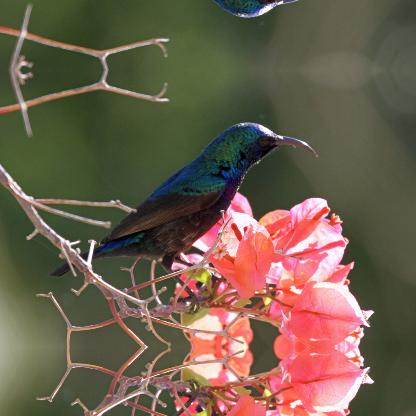Bird: (78, 121, 322, 290)
